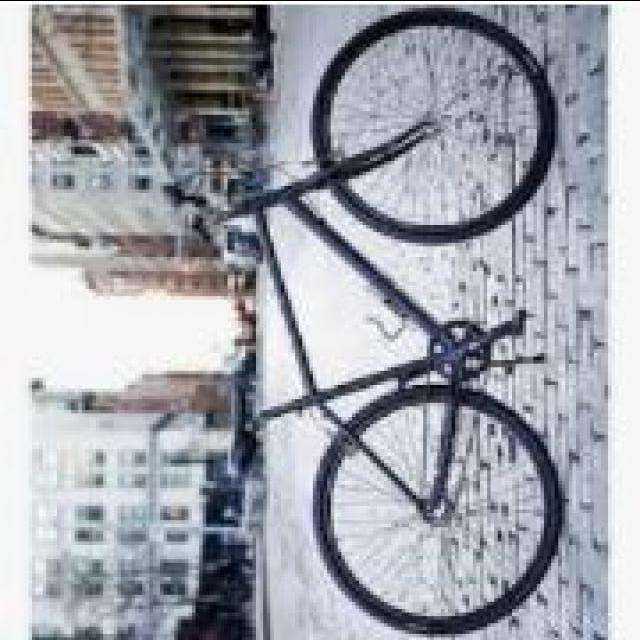bicycle: (182, 1, 562, 634)
